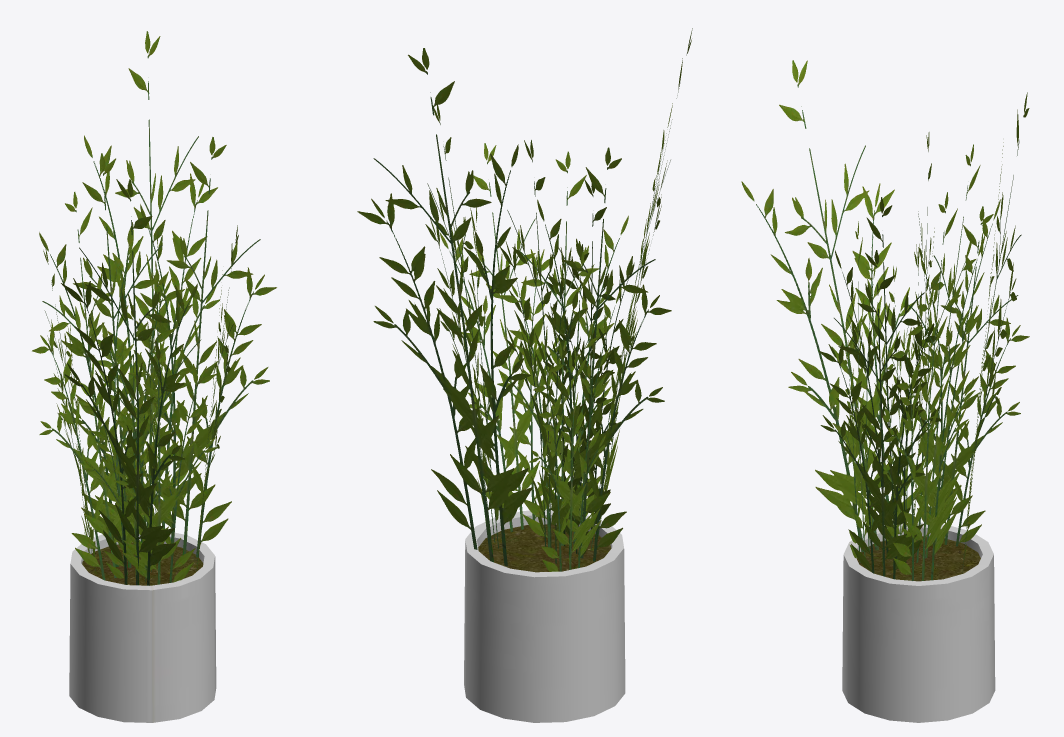
Rendered from pot_plant_b.glb.
The picture shows the model from 3 angles, left to right: view 1: azimuth 30°, elevation 25°; view 2: azimuth 150°, elevation 25°; view 3: azimuth 270°, elevation 25°; orthographic projection. The views are drawn at different scales.
Visible parts, largest first — view 1: Pot_9_Low_PolyPlant_0; view 2: Pot_9_Low_PolyPlant_0; view 3: Pot_9_Low_PolyPlant_0.
Part boxes in pixels (<box>): Pot_9_Low_PolyPlant_0: <box>32,31,276,722</box>; Pot_9_Low_PolyPlant_0: <box>357,28,692,722</box>; Pot_9_Low_PolyPlant_0: <box>741,60,1029,722</box>.
Size of the model in its own units: 0.3707 by 0.8 by 0.3656.
Materials: 1 (1 with a texture image).
